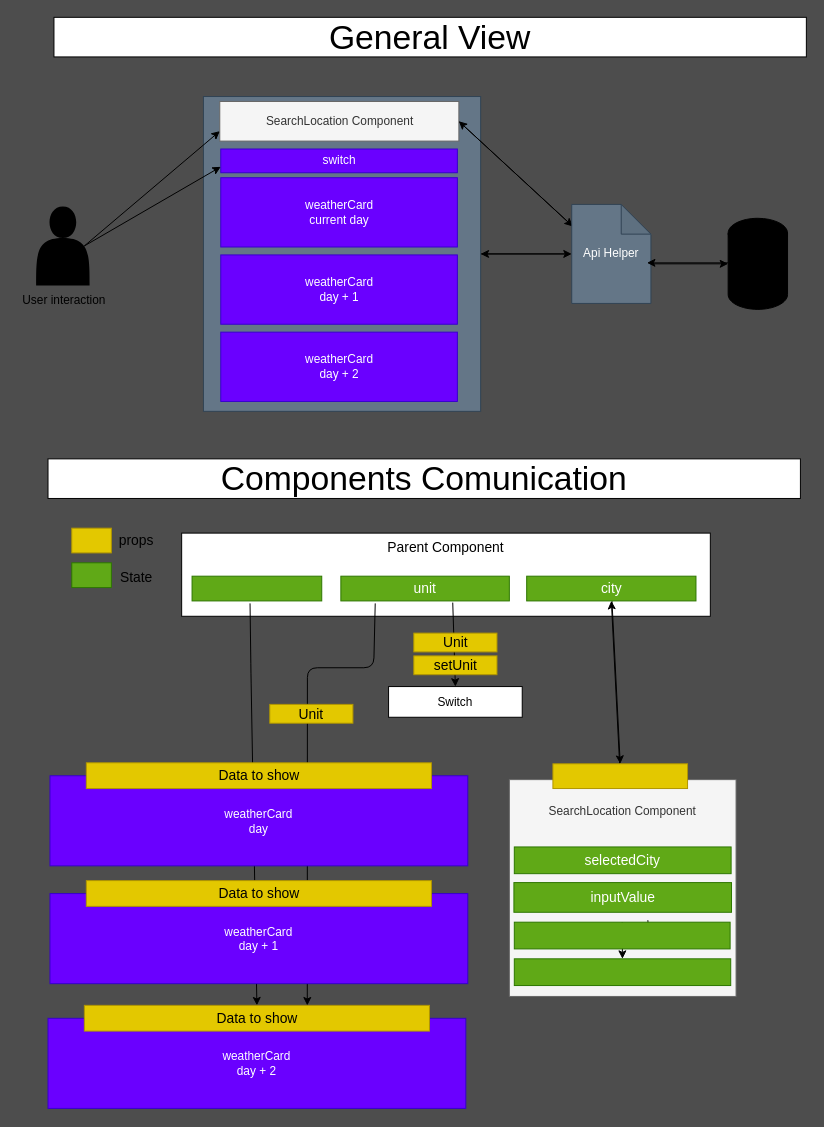
Image size: 824x1127. Some labels were removed from this diagram. Here are the shapes that lost their labels. From the top down, the centre of each, then its label:
At point (757, 263): "Api".
At point (256, 588): "Weather Data".
At point (620, 776): "setCity".
At point (621, 935): "optionsVisible".
At point (622, 972): "optionsList".
